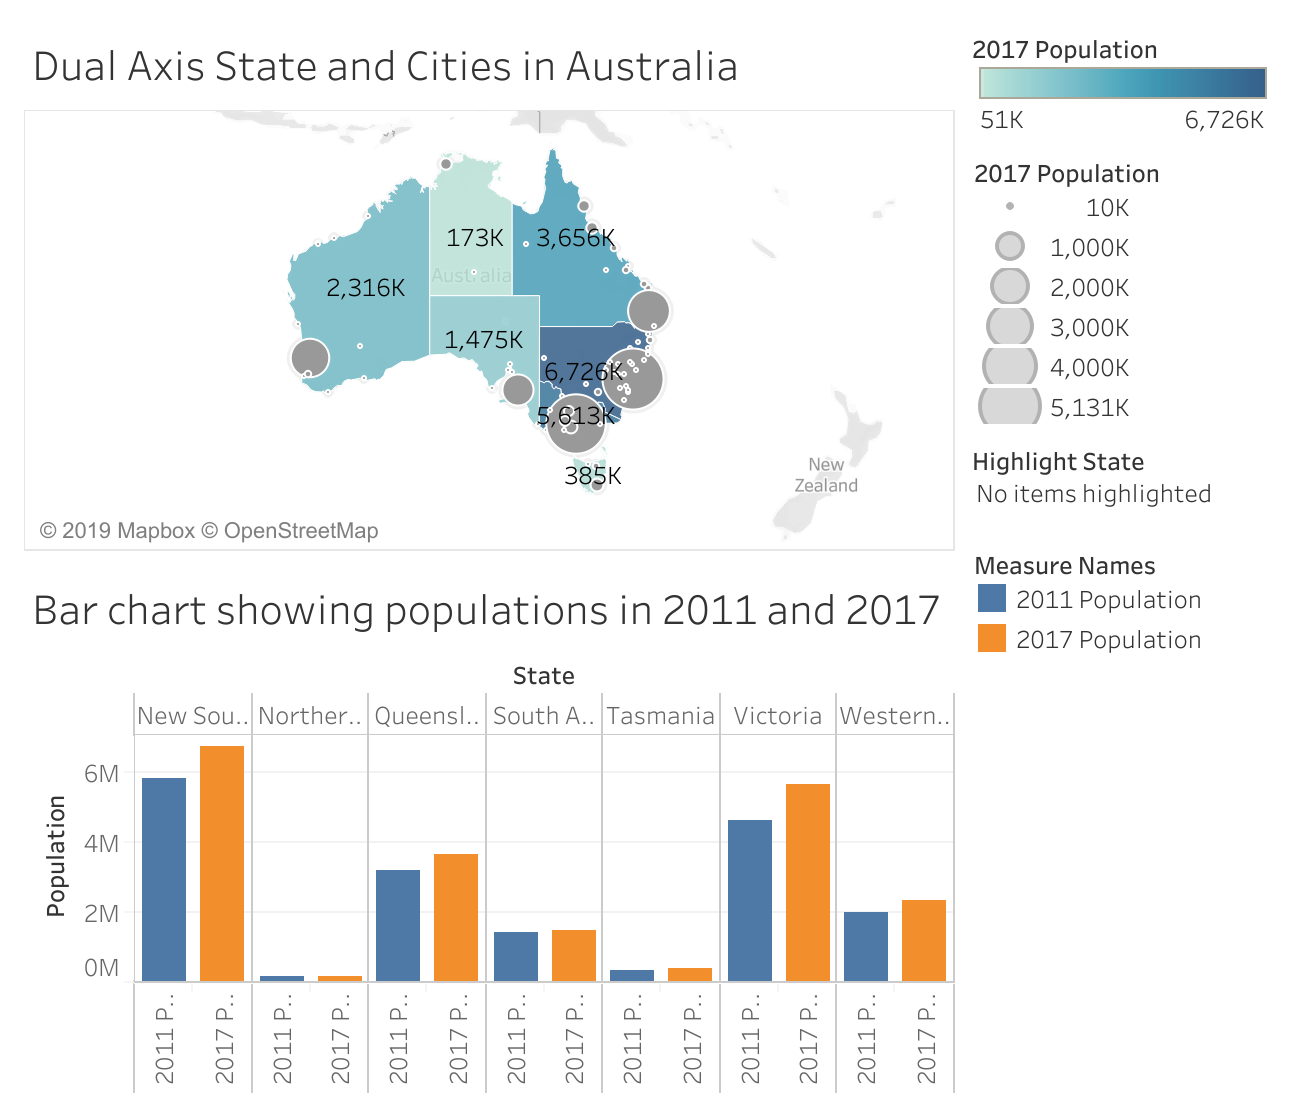

The dashboard page shown, as its layout file describes it:
{"tool":"tableau","page":{"name":"Dashboard 1","canvas":[650,860],"ordinal":0},"visuals":[{"type":"worksheet","title":"Dual Axis State and Cities in Australia","mark":"Multipolygon","box":[8,8.5,474,421.5]},{"type":"legend","title":"Dual Axis State and Cities in Australia","param":"[federated.1y2rsdj0vu4yxj1ejzi4x1frh0wj].[sum:June 2017(2):qk]","box":[482,8.5,160,69.1]},{"type":"legend","title":"Dual Axis State and Cities in Australia","param":"[federated.1y2rsdj0vu4yxj1ejzi4x1frh0wj].[sum:June 2017(2):qk]","box":[482,77.6,160,155.2]},{"type":"highlighter","title":"Dual Axis State and Cities in Australia","param":"[federated.1y2rsdj0vu4yxj1ejzi4x1frh0wj].[none:State/Territory:nk]","box":[482,232.8,160,55.3]},{"type":"legend","title":"Bar chart showing populations in 2011 and 2017","param":"[federated.1y2rsdj0vu4yxj1ejzi4x1frh0wj].[:Measure Names]","box":[482,288.1,160,70.2]},{"type":"worksheet","title":"Bar chart showing populations in 2011 and 2017","mark":"Automatic","cols":["State/Territory"],"box":[8,430,474,421.5]}]}

Visuals, with their boxes in screenshot pixels (x1, y1, x2, y2):
"Dual Axis State and Cities in Australia" worksheet (Multipolygon marks): BBox(483, 62, 1092, 602)
"Dual Axis State and Cities in Australia" legend: BBox(1092, 62, 1297, 150)
"Dual Axis State and Cities in Australia" legend: BBox(1092, 150, 1297, 349)
"Dual Axis State and Cities in Australia" highlighter: BBox(1092, 349, 1297, 420)
"Bar chart showing populations in 2011 and 2017" legend: BBox(1092, 420, 1297, 510)
"Bar chart showing populations in 2011 and 2017" worksheet: BBox(483, 602, 1092, 1117)
